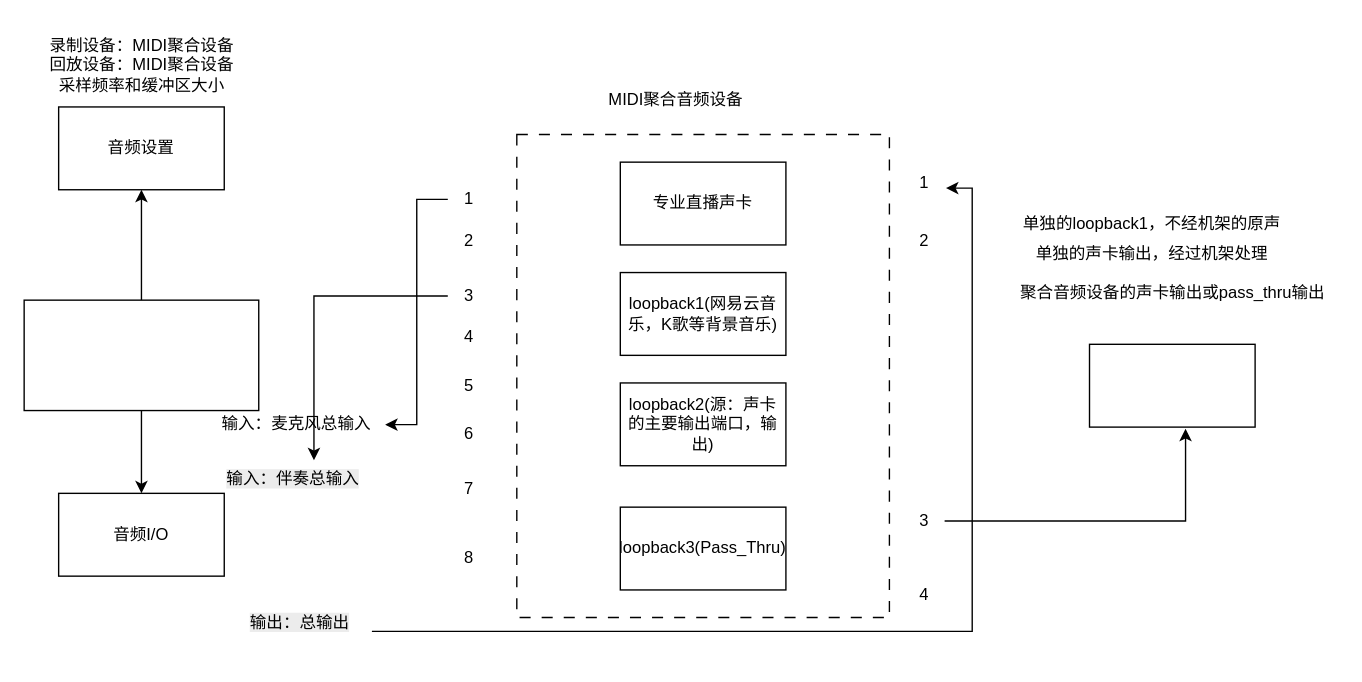
Image size: 1362x682. Some labels were removed from this diagram. Here are the shapes that lost their labels. From the top down, the box of each, then its label:
(23, 299, 259, 411): 机架控制
(1088, 343, 1255, 427): 直播APP
